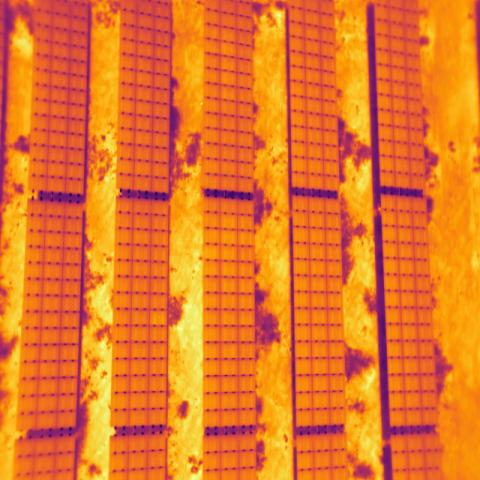fault: (150, 310, 168, 329)
